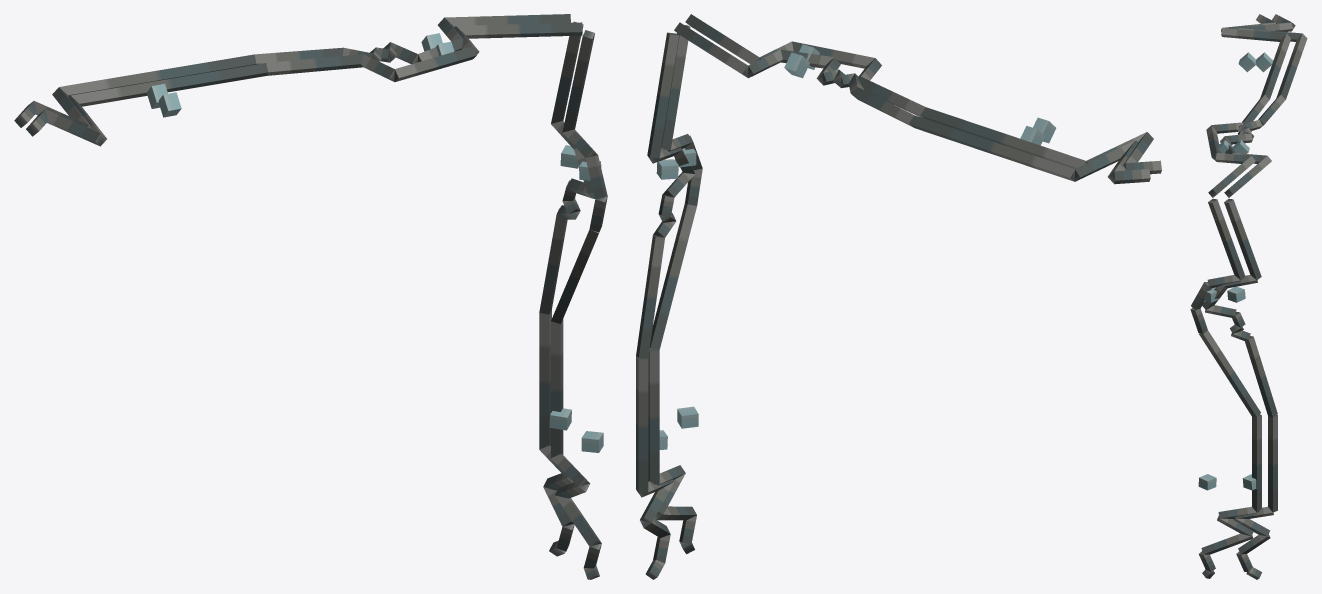
Rendered from pz_native_electrical_186.obj.
3 renders of one model, left to right at view 1: azimuth 30°, elevation 25°; view 2: azimuth 150°, elevation 25°; view 3: azimuth 270°, elevation 25°, orthographic. The views are drawn at different scales.
Visible parts, largest first — view 1: conduit, conduit_end; view 2: conduit, conduit_end; view 3: conduit, conduit_end.
Part boxes in pixels (<box>): conduit: <box>15,14,607,579</box>; conduit_end: <box>14,21,607,579</box>; conduit: <box>636,14,1161,576</box>; conduit_end: <box>636,25,1126,579</box>; conduit: <box>1190,14,1307,579</box>; conduit_end: <box>1191,23,1295,573</box>.
Size of the model in its own units: 1.03 by 1.03 by 0.2785.
1 material, 1 textured.
